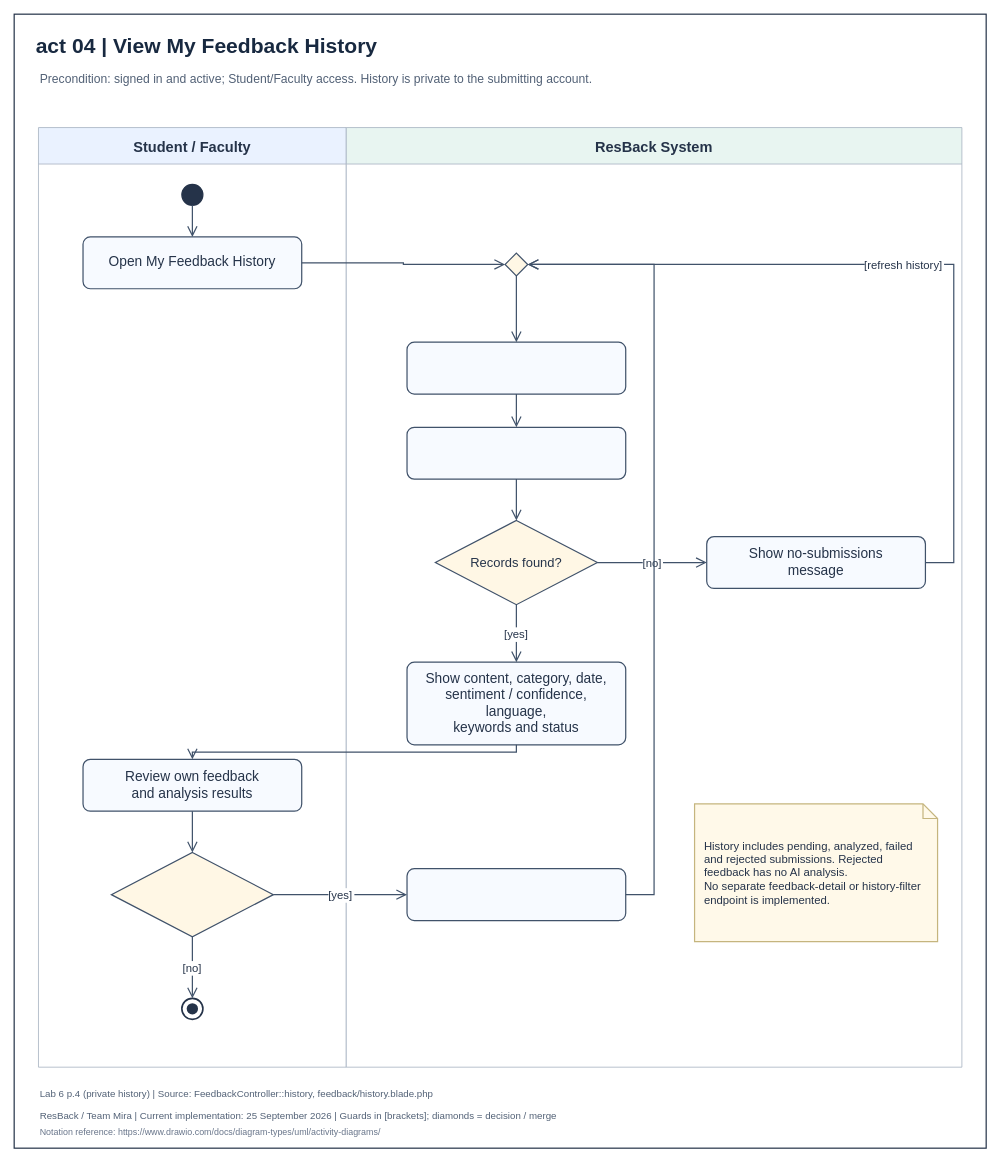
The diagram is 1001 pixels wide and 1163 high, and some of its shapes have lost their labels. Each missing label, with the centre of its shape:
"Load this account's feedback with category and analysis" belongs at point (516, 367).
"Open another history page?" belongs at point (192, 894).
"Order newest first; show 10 records per page" belongs at point (516, 452).
"Select next / previous page" belongs at point (516, 894).
